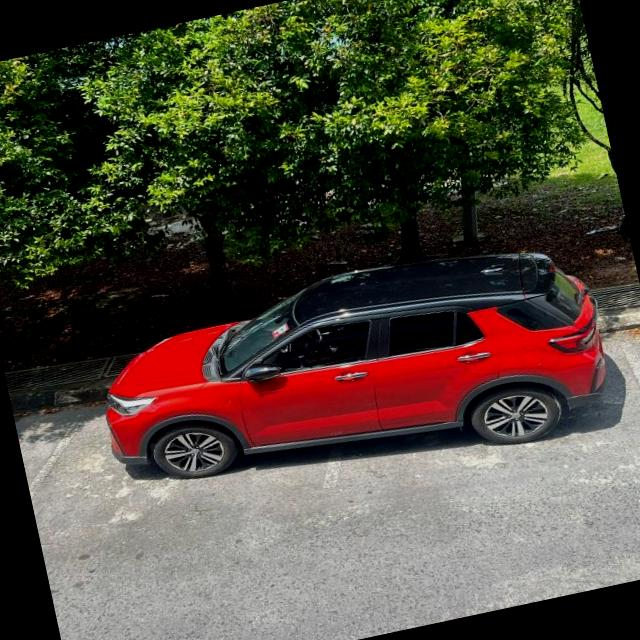PeroduaAtiva: (83, 220, 623, 527)
